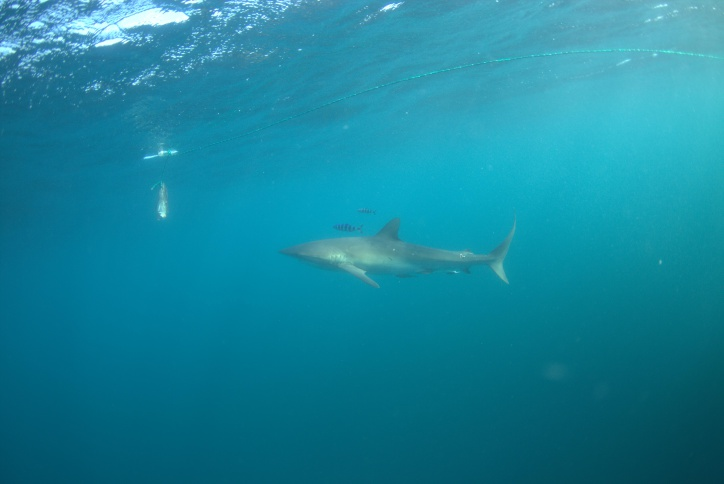Sedoso: (264, 211, 515, 292)
